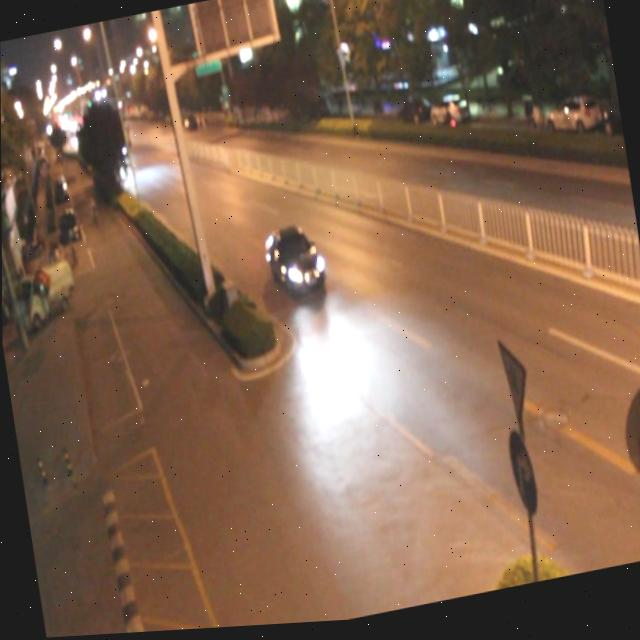car: (263, 222, 330, 309)
